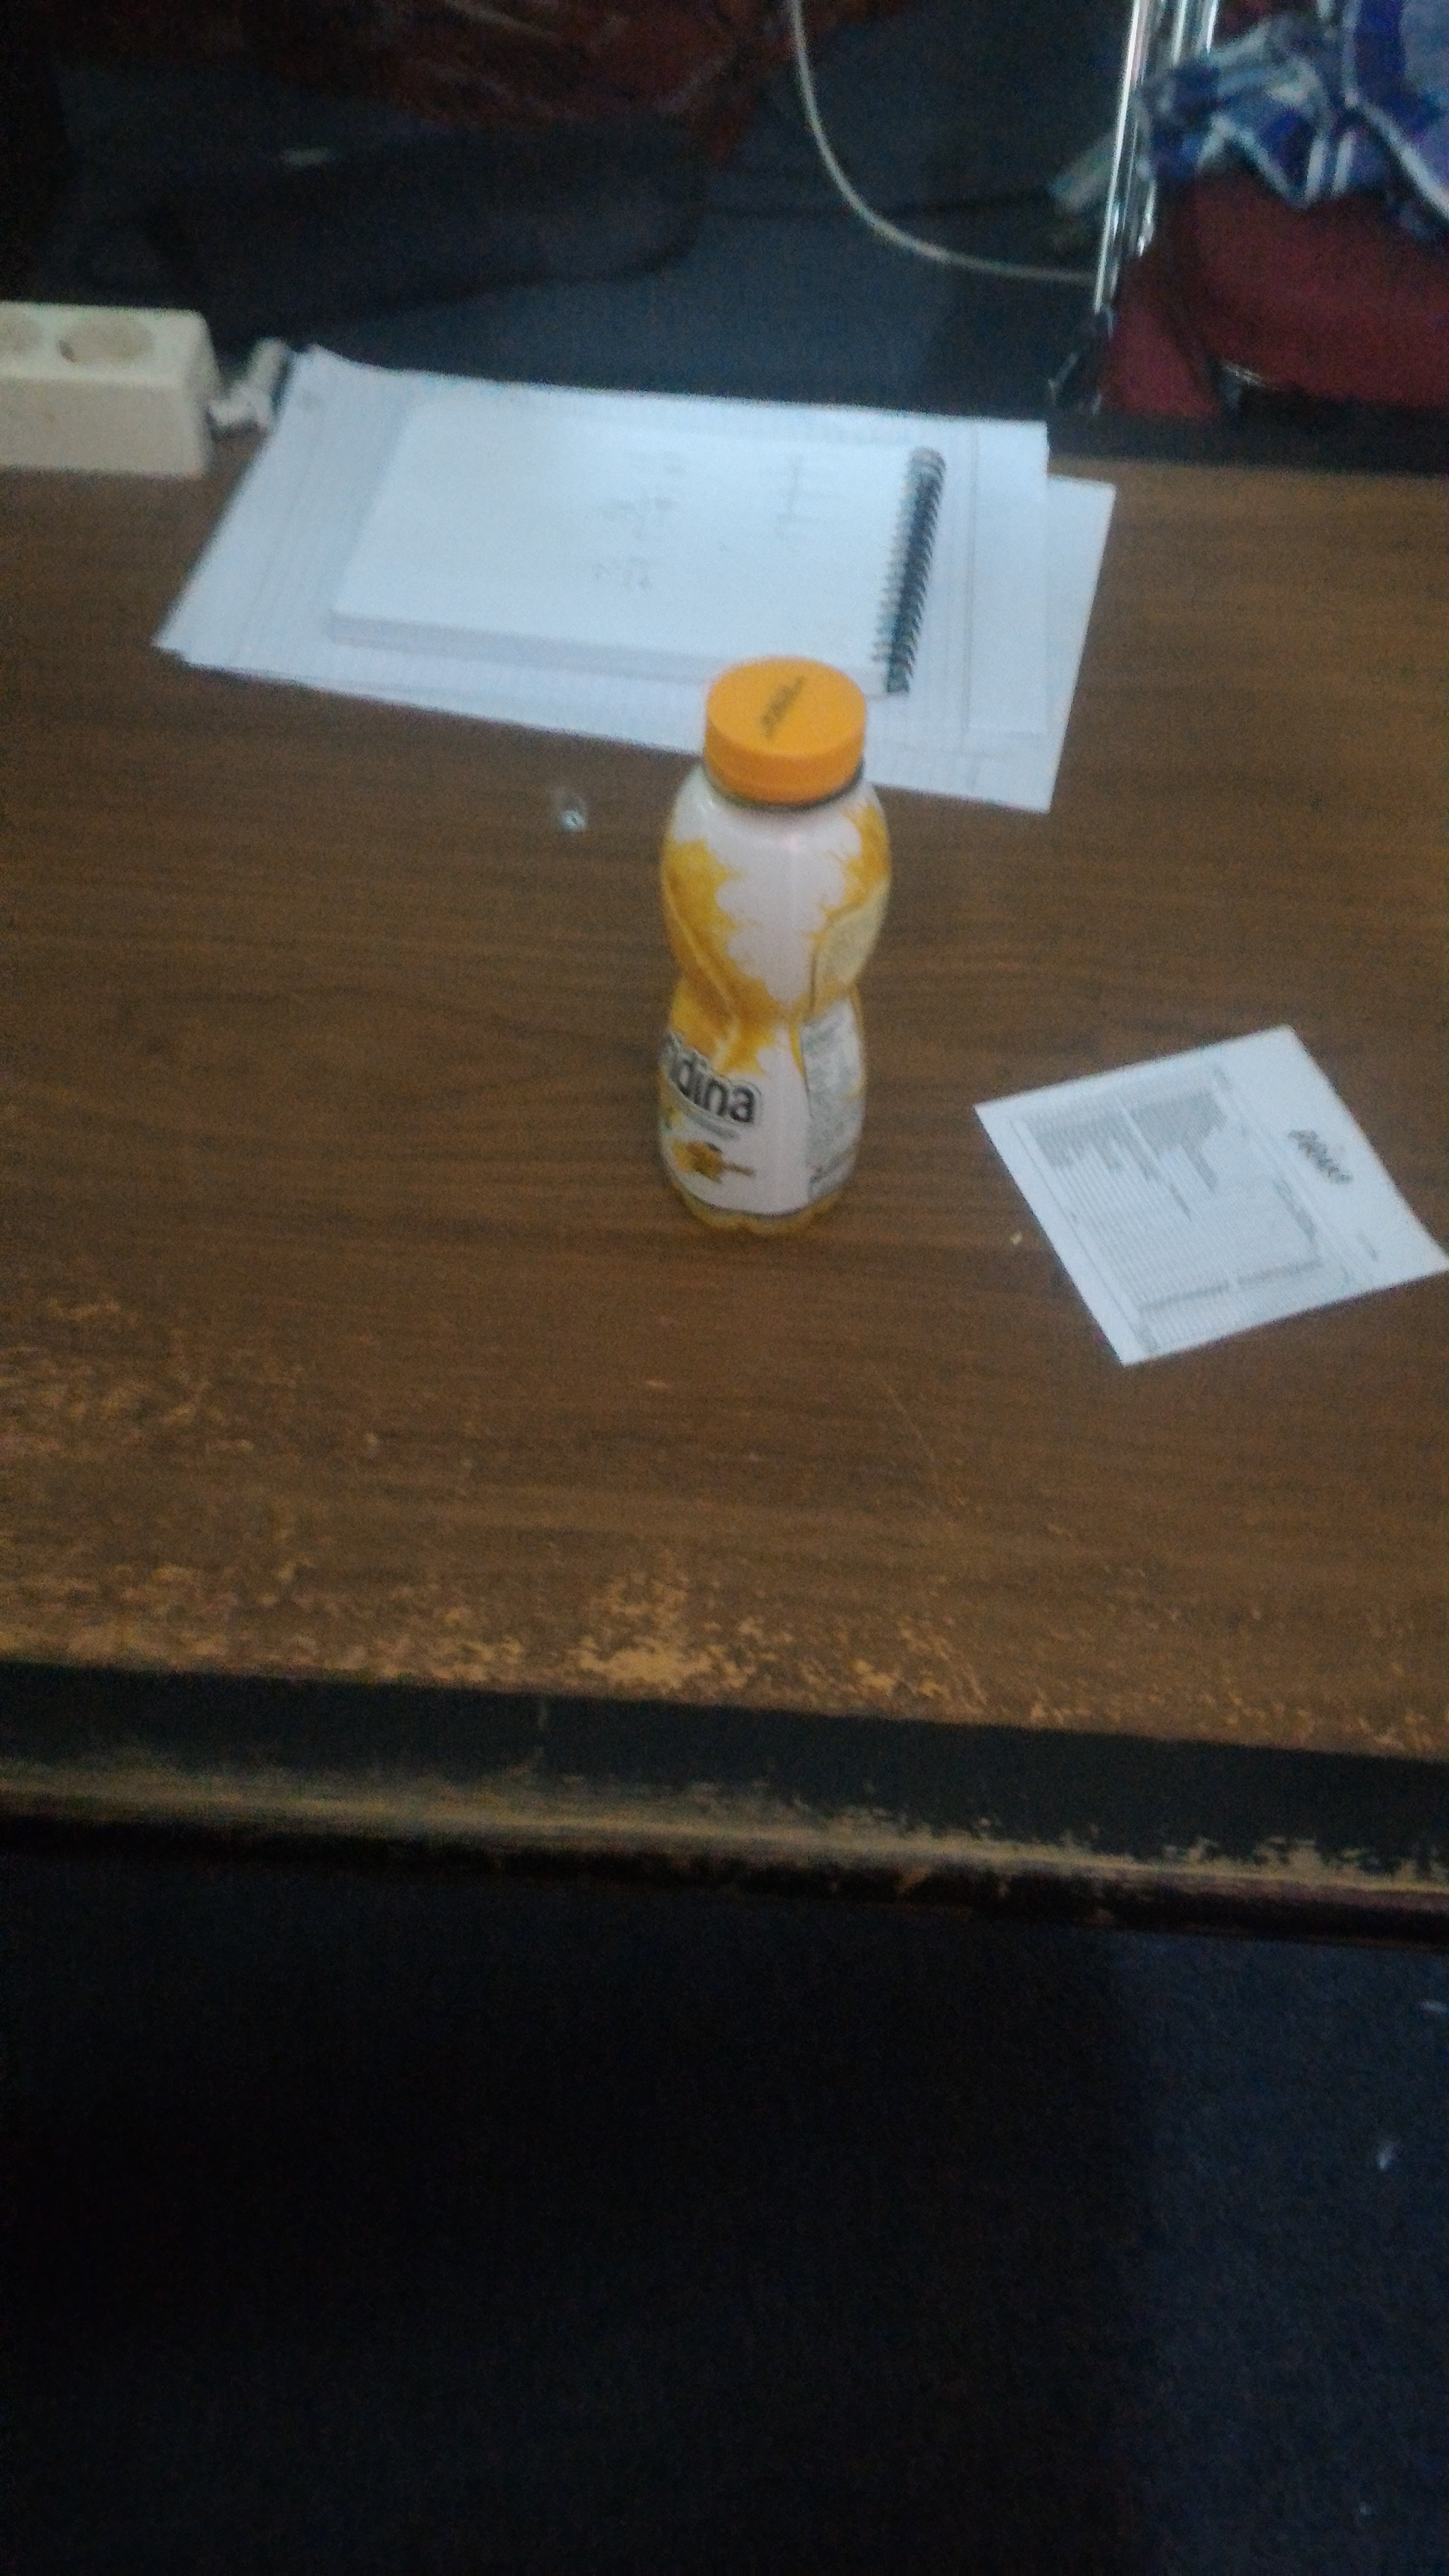botol: (663, 655, 899, 1235), (663, 672, 899, 1235), (663, 672, 899, 1228)
